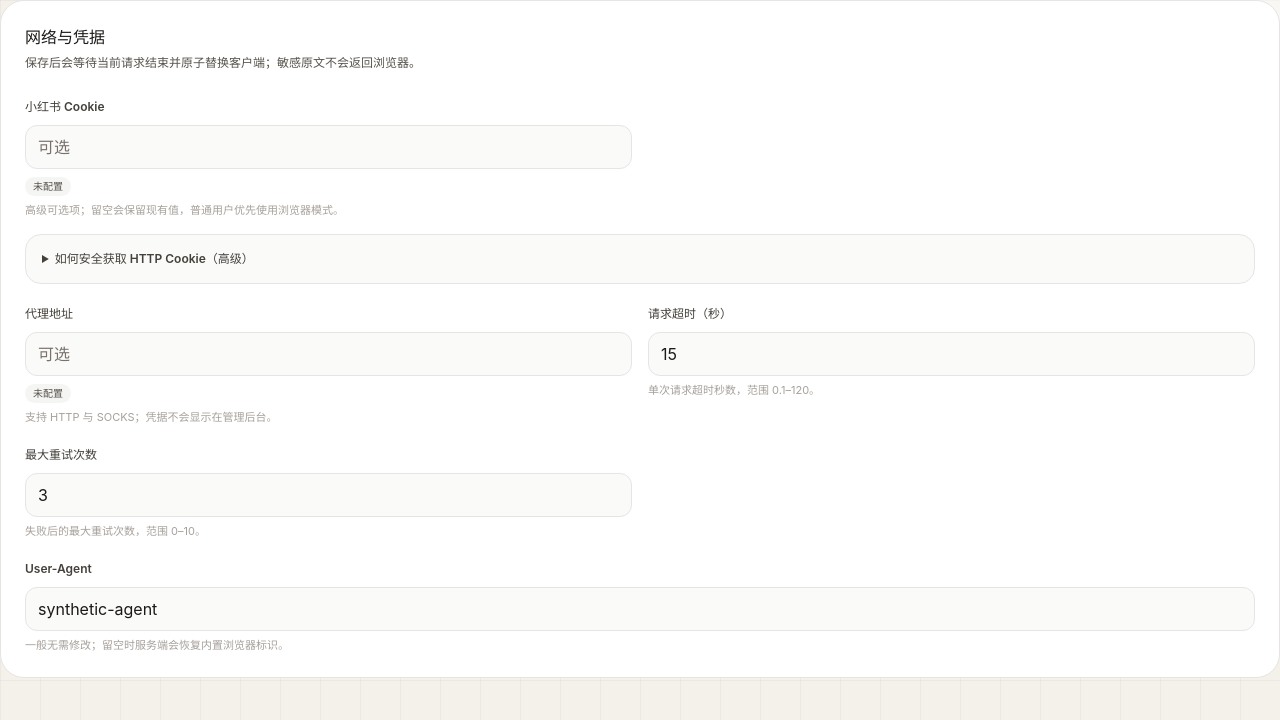
Test: 配置分组控件 › 默认收起并展示 HTTP Cookie 安全获取说明
The image size is (1280, 720).
Click the heading "如何安全获取 HTTP Cookie（高级）".
click(154, 258)  # box 55,251 -> 254,266
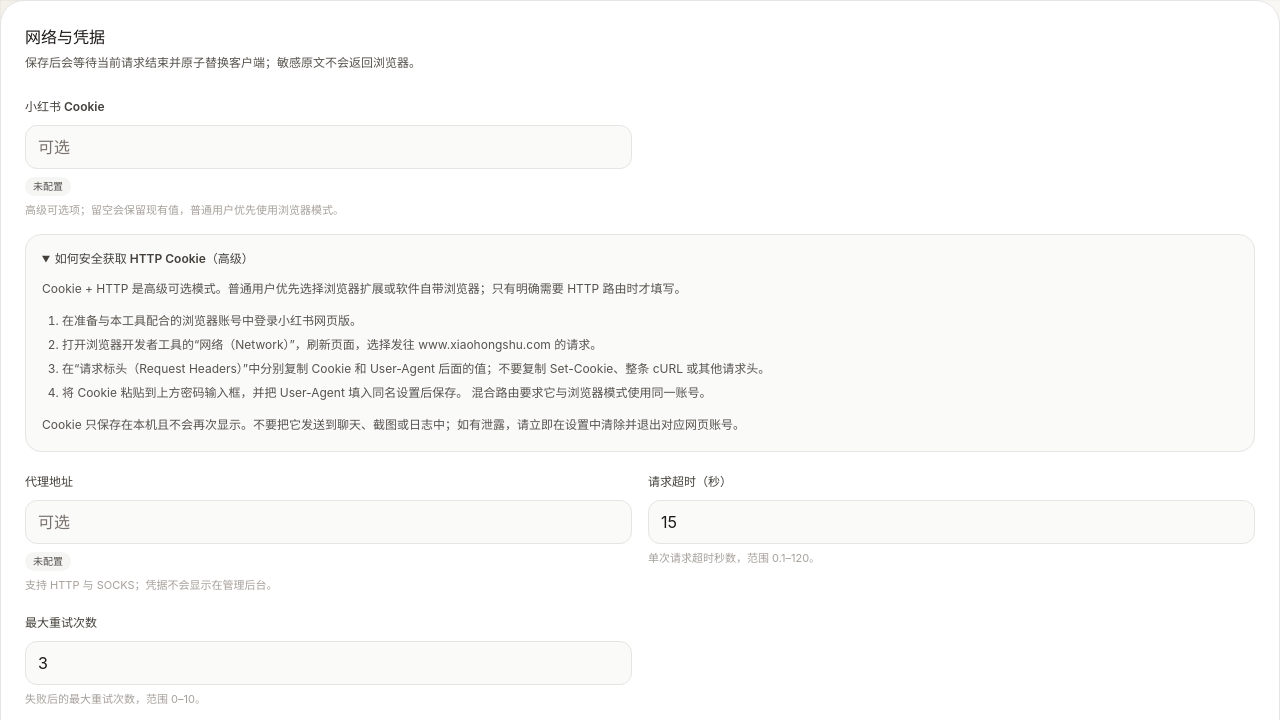
Now the text "普通用户优先选择浏览器扩展或软件自带浏览器" is shown, box 42,281 -> 687,296
Now the list item "不要复制 Set-Cookie、整条 cURL 或其他请求头" is shown, box 62,361 -> 770,376
Now the text "Cookie 只保存在本机且不会再次显示" is shown, box 42,417 -> 745,432
